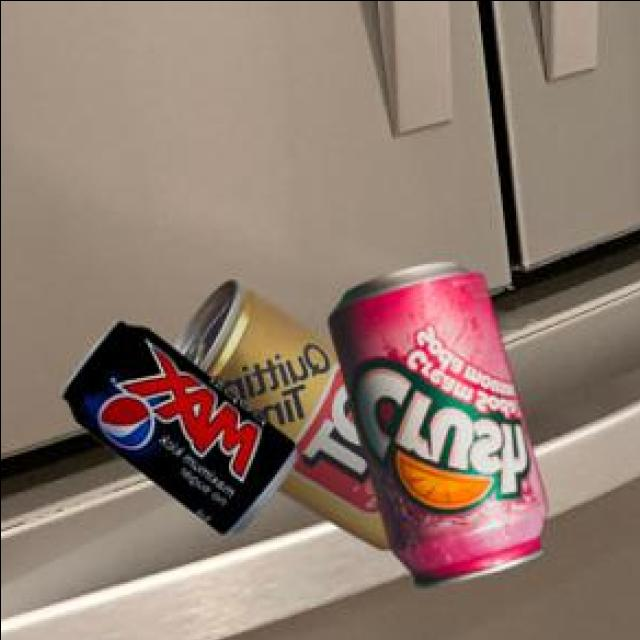logam: (332, 258, 549, 584), (176, 275, 393, 545), (65, 317, 299, 529)
